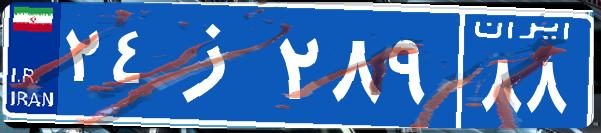2: (273, 28, 330, 110), (57, 26, 110, 107)
4: (110, 28, 158, 105)
8: (330, 28, 385, 110), (475, 38, 525, 113), (525, 38, 570, 115)
9: (385, 28, 445, 110)
ز: (158, 15, 273, 115)
